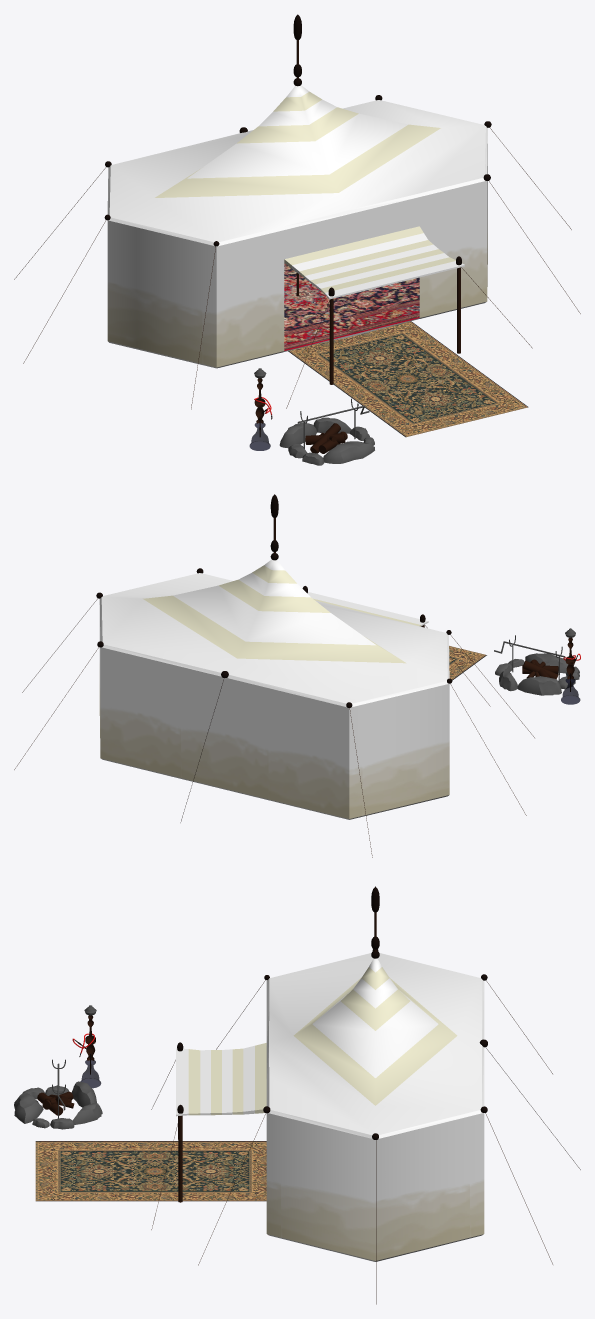
The model's file is chador tent.fbx.
The picture shows the model from 3 angles, top to bottom: view 1: azimuth 30°, elevation 25°; view 2: azimuth 150°, elevation 25°; view 3: azimuth 270°, elevation 25°; orthographic projection. The views are drawn at different scales.
Parts seen in each view (by area): view 1: Box001, Plane001, Object001, Box002, Box003; view 2: Box001, Plane001, Box003; view 3: Box001, Plane001, Box002.
Part boxes in pixels (box(x1,y1,x2,y2)): Box001: box(107, 85, 487, 368); Plane001: box(288, 321, 528, 437); Object001: box(284, 263, 419, 350); Box002: box(323, 441, 374, 463); Box003: box(279, 422, 316, 447); Box001: box(99, 559, 449, 819); Plane001: box(449, 646, 486, 680); Box003: box(517, 676, 561, 695); Box001: box(176, 953, 484, 1261); Plane001: box(35, 1141, 266, 1201); Box002: box(14, 1093, 43, 1123).
Size of the model in its own units: 301 by 150 by 268.
Materials: 12 (3 with a texture image).
